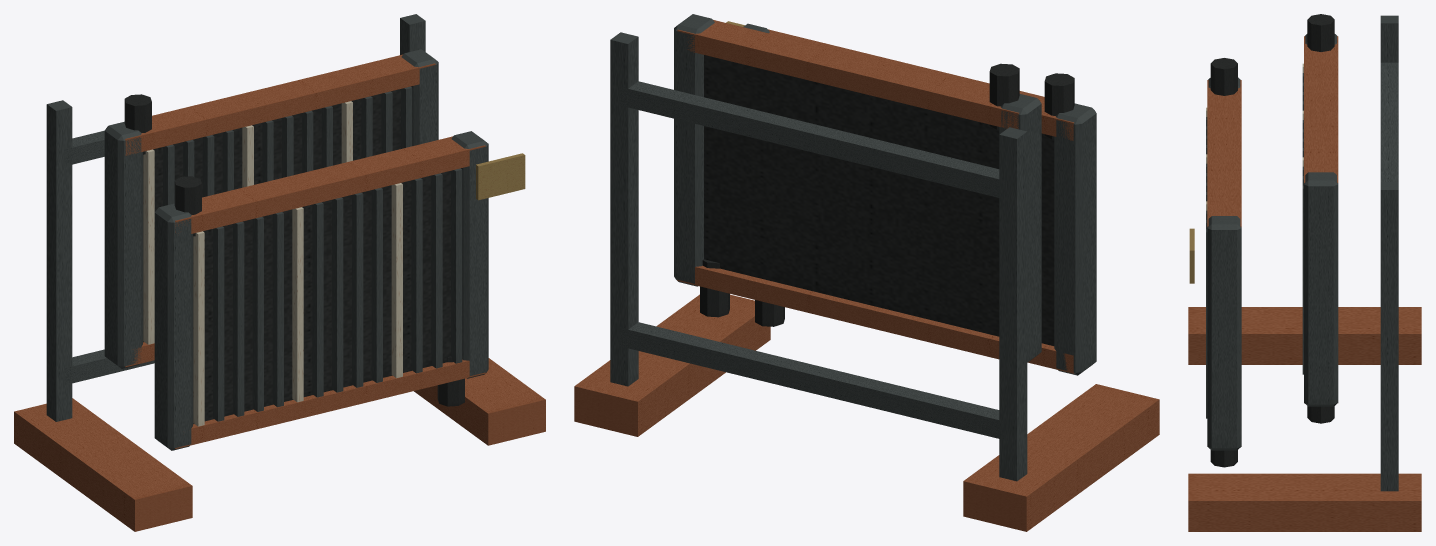
The model's file is CompactRadiatorRack.fbx.
The picture shows the model from 3 angles, left to right: view 1: azimuth 30°, elevation 25°; view 2: azimuth 150°, elevation 25°; view 3: azimuth 270°, elevation 25°; orthographic projection. The views are drawn at different scales.
Visible parts, largest first — view 1: CompactRadiatorRack; view 2: CompactRadiatorRack; view 3: CompactRadiatorRack.
Boxes of the visible parts, box(x1,y1,x2,y2) form: CompactRadiatorRack: box(14, 14, 545, 531); CompactRadiatorRack: box(574, 14, 1159, 531); CompactRadiatorRack: box(1188, 14, 1421, 531).
Bounding box in the file's own units: 114 × 96.45 × 58.
Materials: 1 (1 with a texture image).
